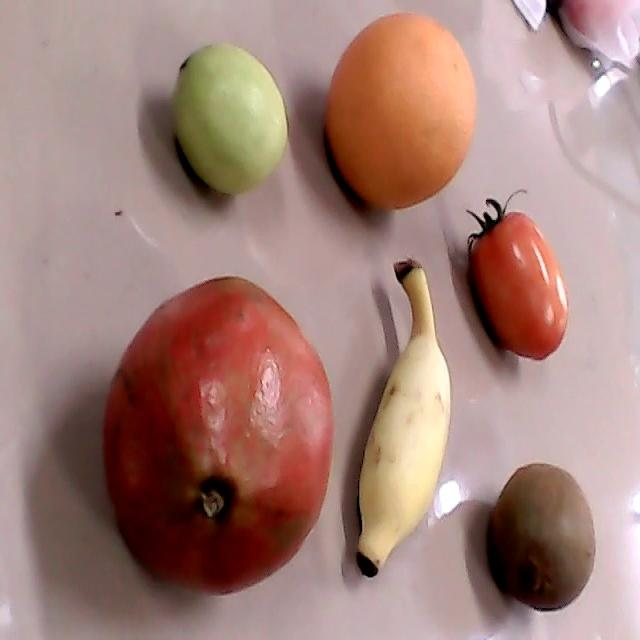kiwi: (492, 463, 596, 611)
lemon: (173, 43, 288, 198)
orange: (325, 12, 476, 212)
pomegranate: (102, 273, 335, 595)
tomato: (466, 188, 570, 360)
